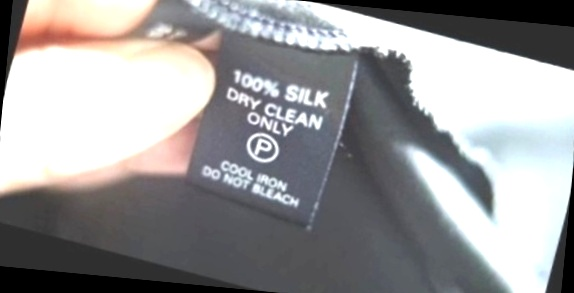dry_clean_any_solvent_except_trichloroethylene: (237, 122, 291, 173)
